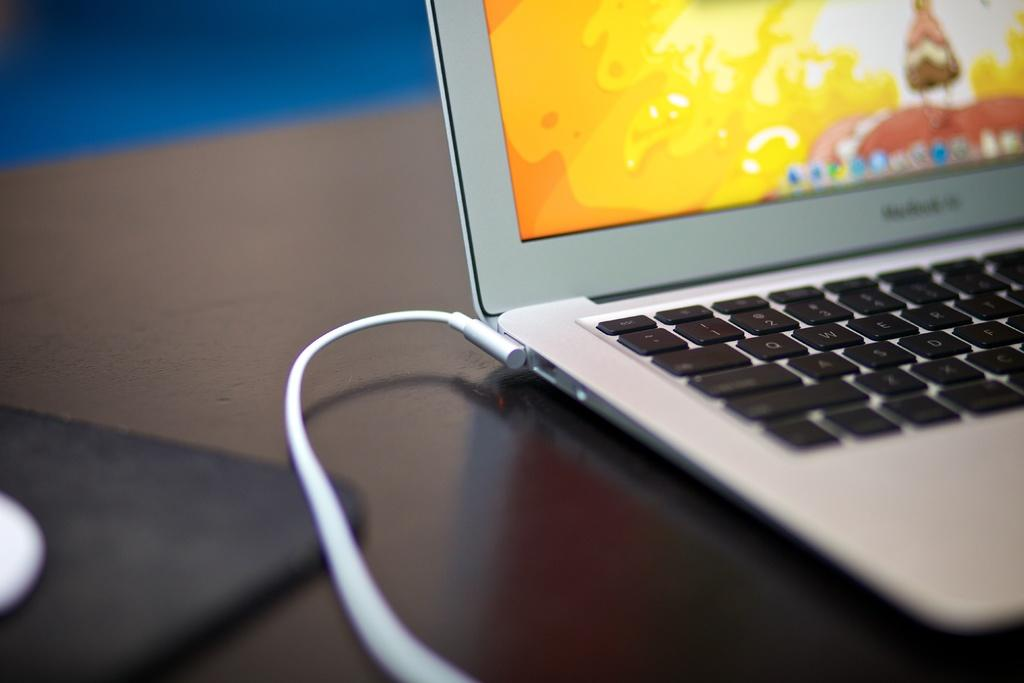Computer-keyboard: (593, 240, 1023, 458)
Laptop: (424, 1, 1023, 638)
